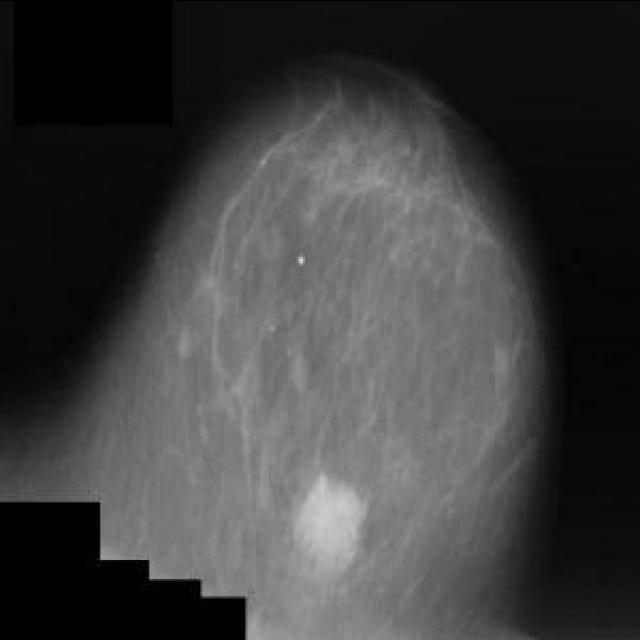tumor: (254, 102, 436, 214), (284, 467, 379, 580)
